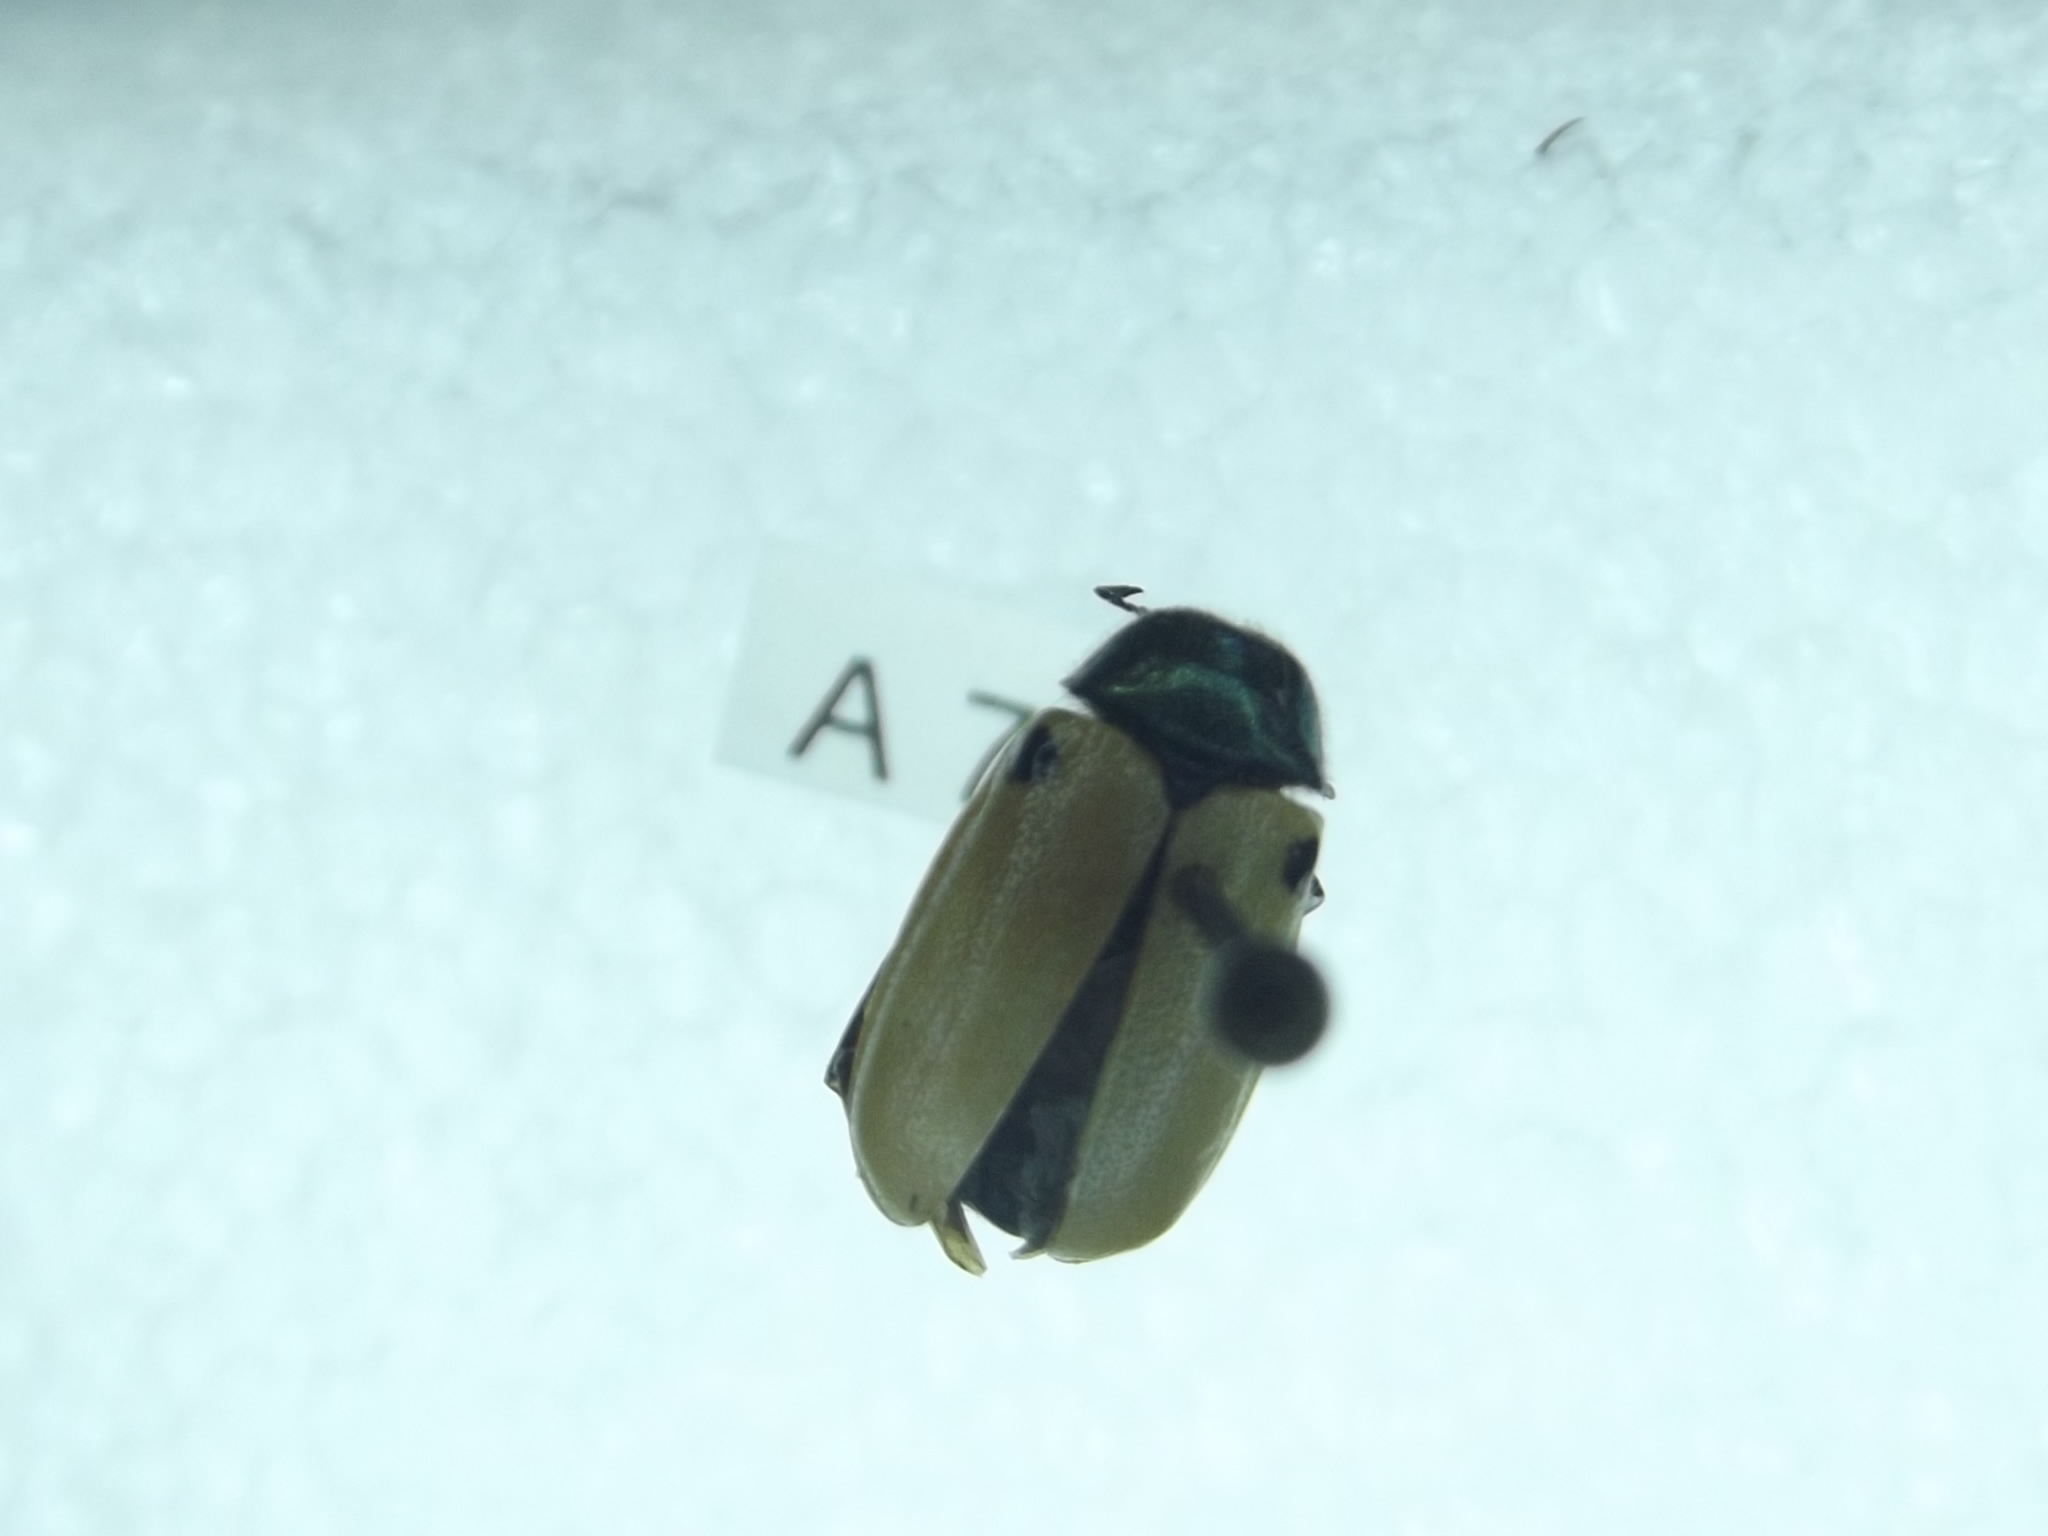Labidostomis_propinqua: (797, 566, 1335, 1268)
